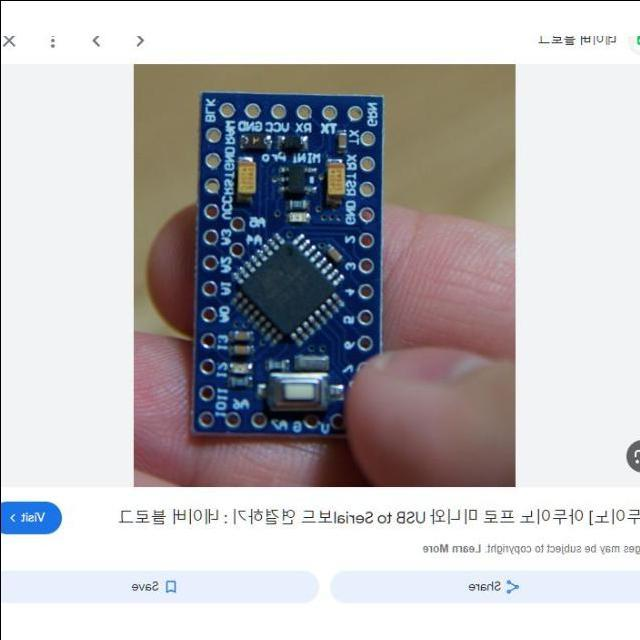Arduino-ProMini: (194, 93, 383, 436)
